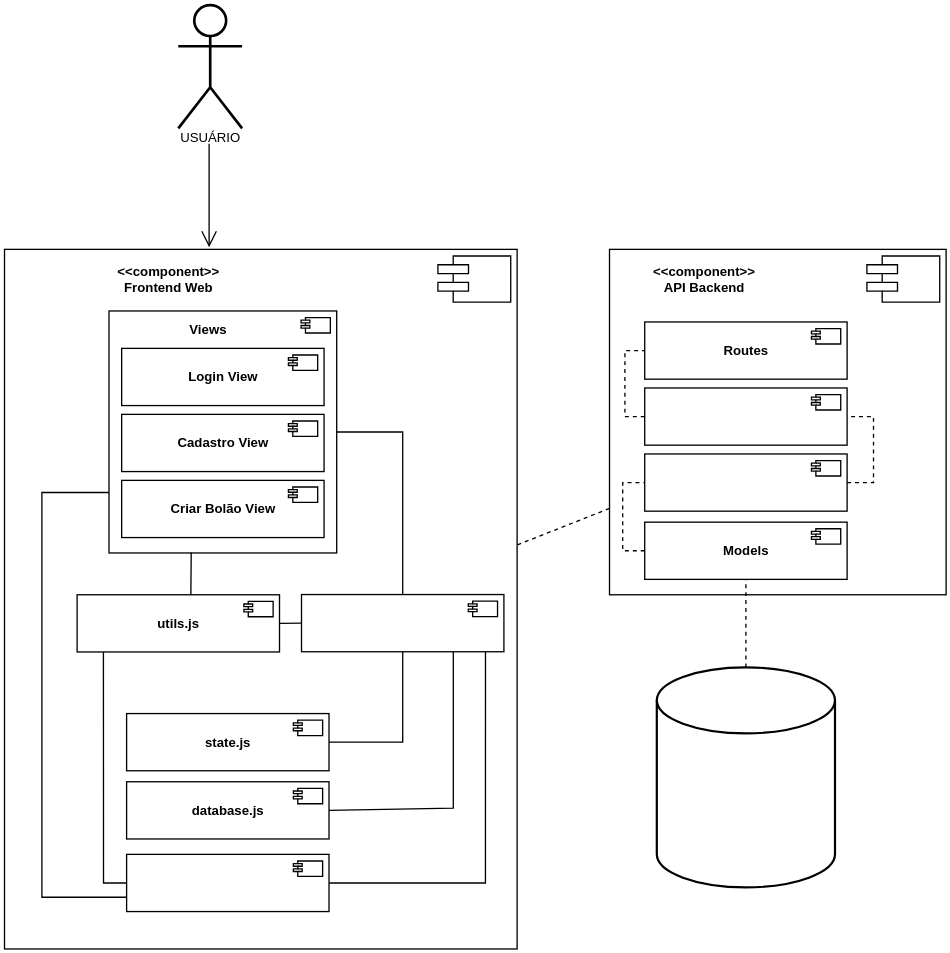
Some shapes in this 950 by 953 pixel diagram are drawn without their labels. The shapes that lost their labels are listed below. From the top down, each one's centre as x and y in pixels, then its label:
At point 746,416: "Controllers".
At point 746,482: "Services".
At point 402,623: "Controllers Frontend".
At point 746,777: "MySQL".
At point 228,883: "app.js".
